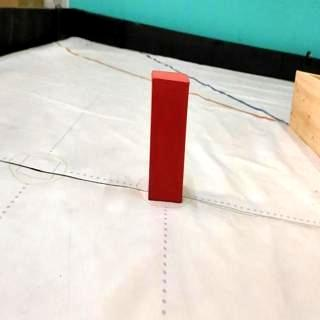redbox: (149, 70, 190, 202)
